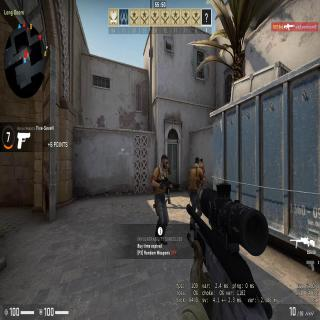T-Body: (151, 152, 169, 250), (188, 156, 203, 227), (199, 156, 205, 173)
T-Head: (161, 154, 167, 167), (194, 156, 200, 165), (200, 158, 202, 163)
